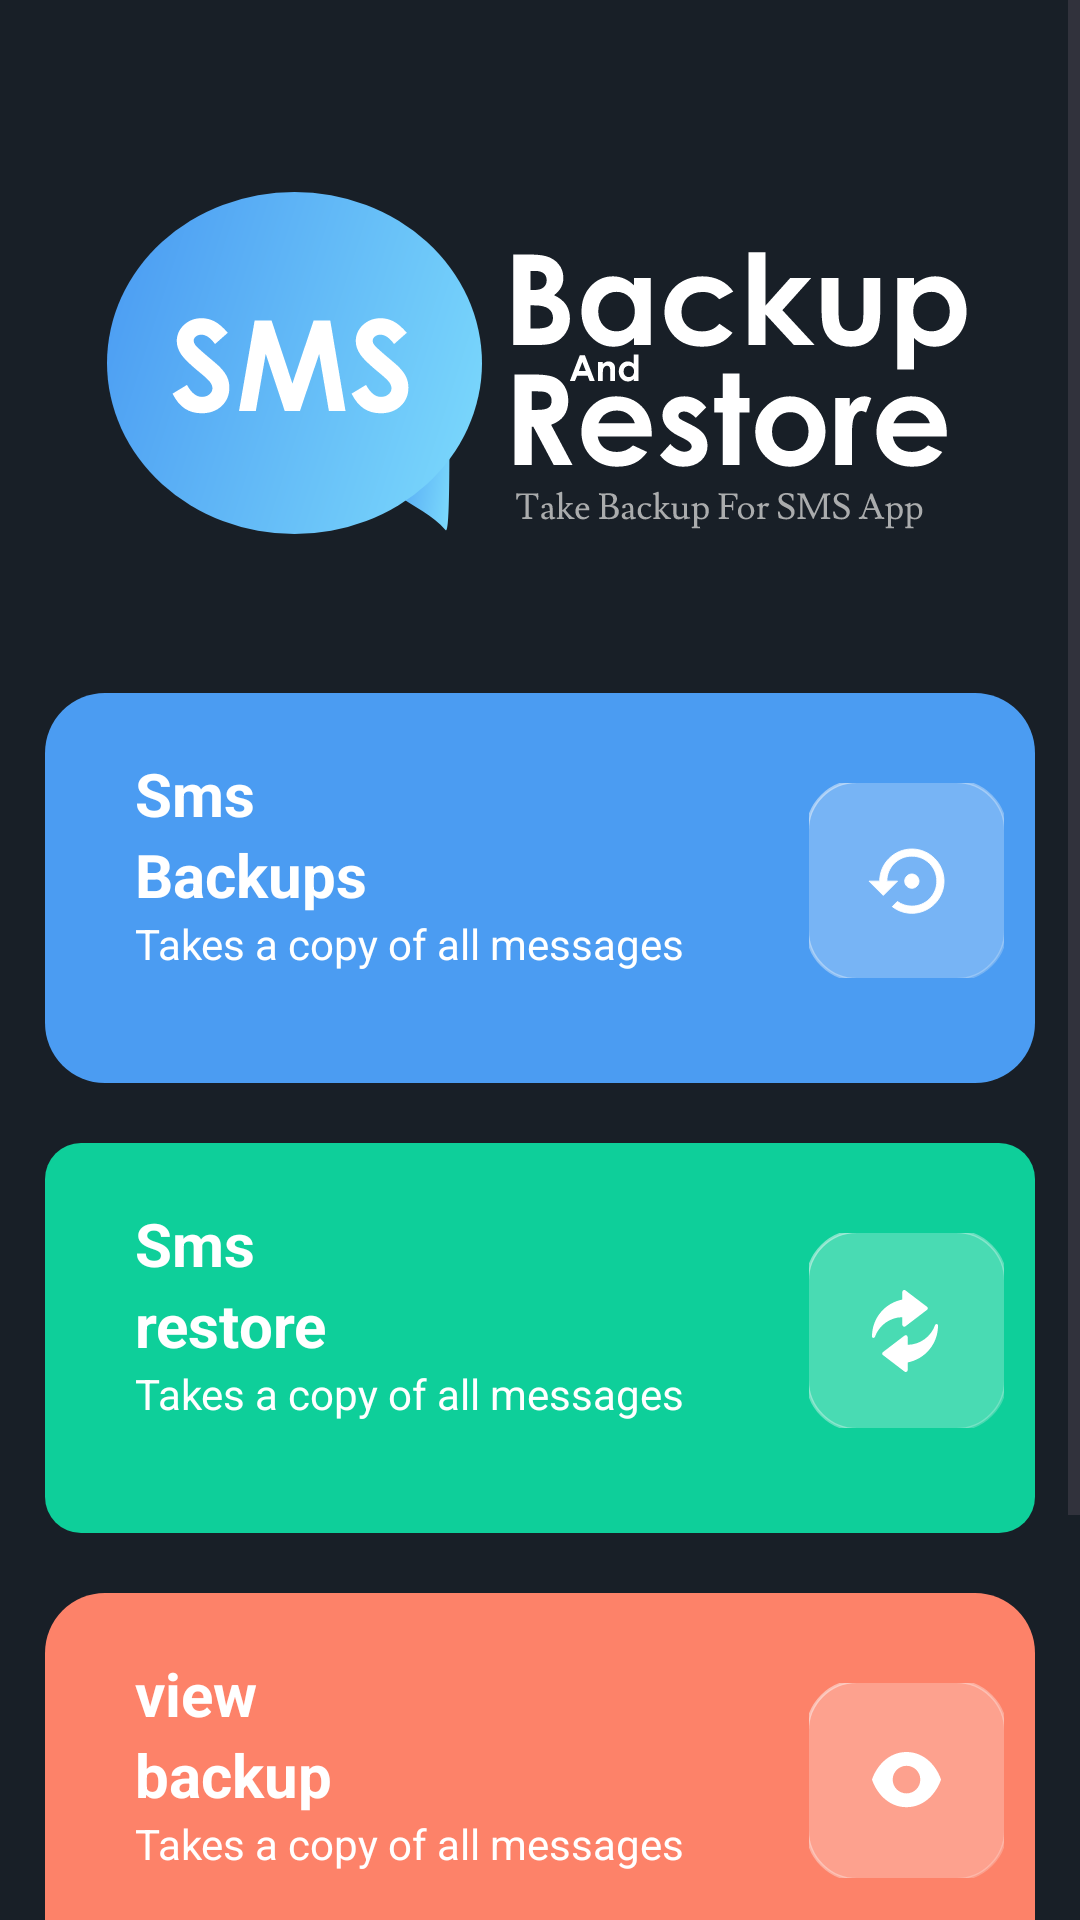

Where icons sit on this 1080 x 1920 app screen, as box(x1, y1, x2, y2):
sms backup: box(809, 783, 1004, 978)
sms restore: box(809, 1233, 1004, 1428)
view backups: box(809, 1683, 1004, 1878)
